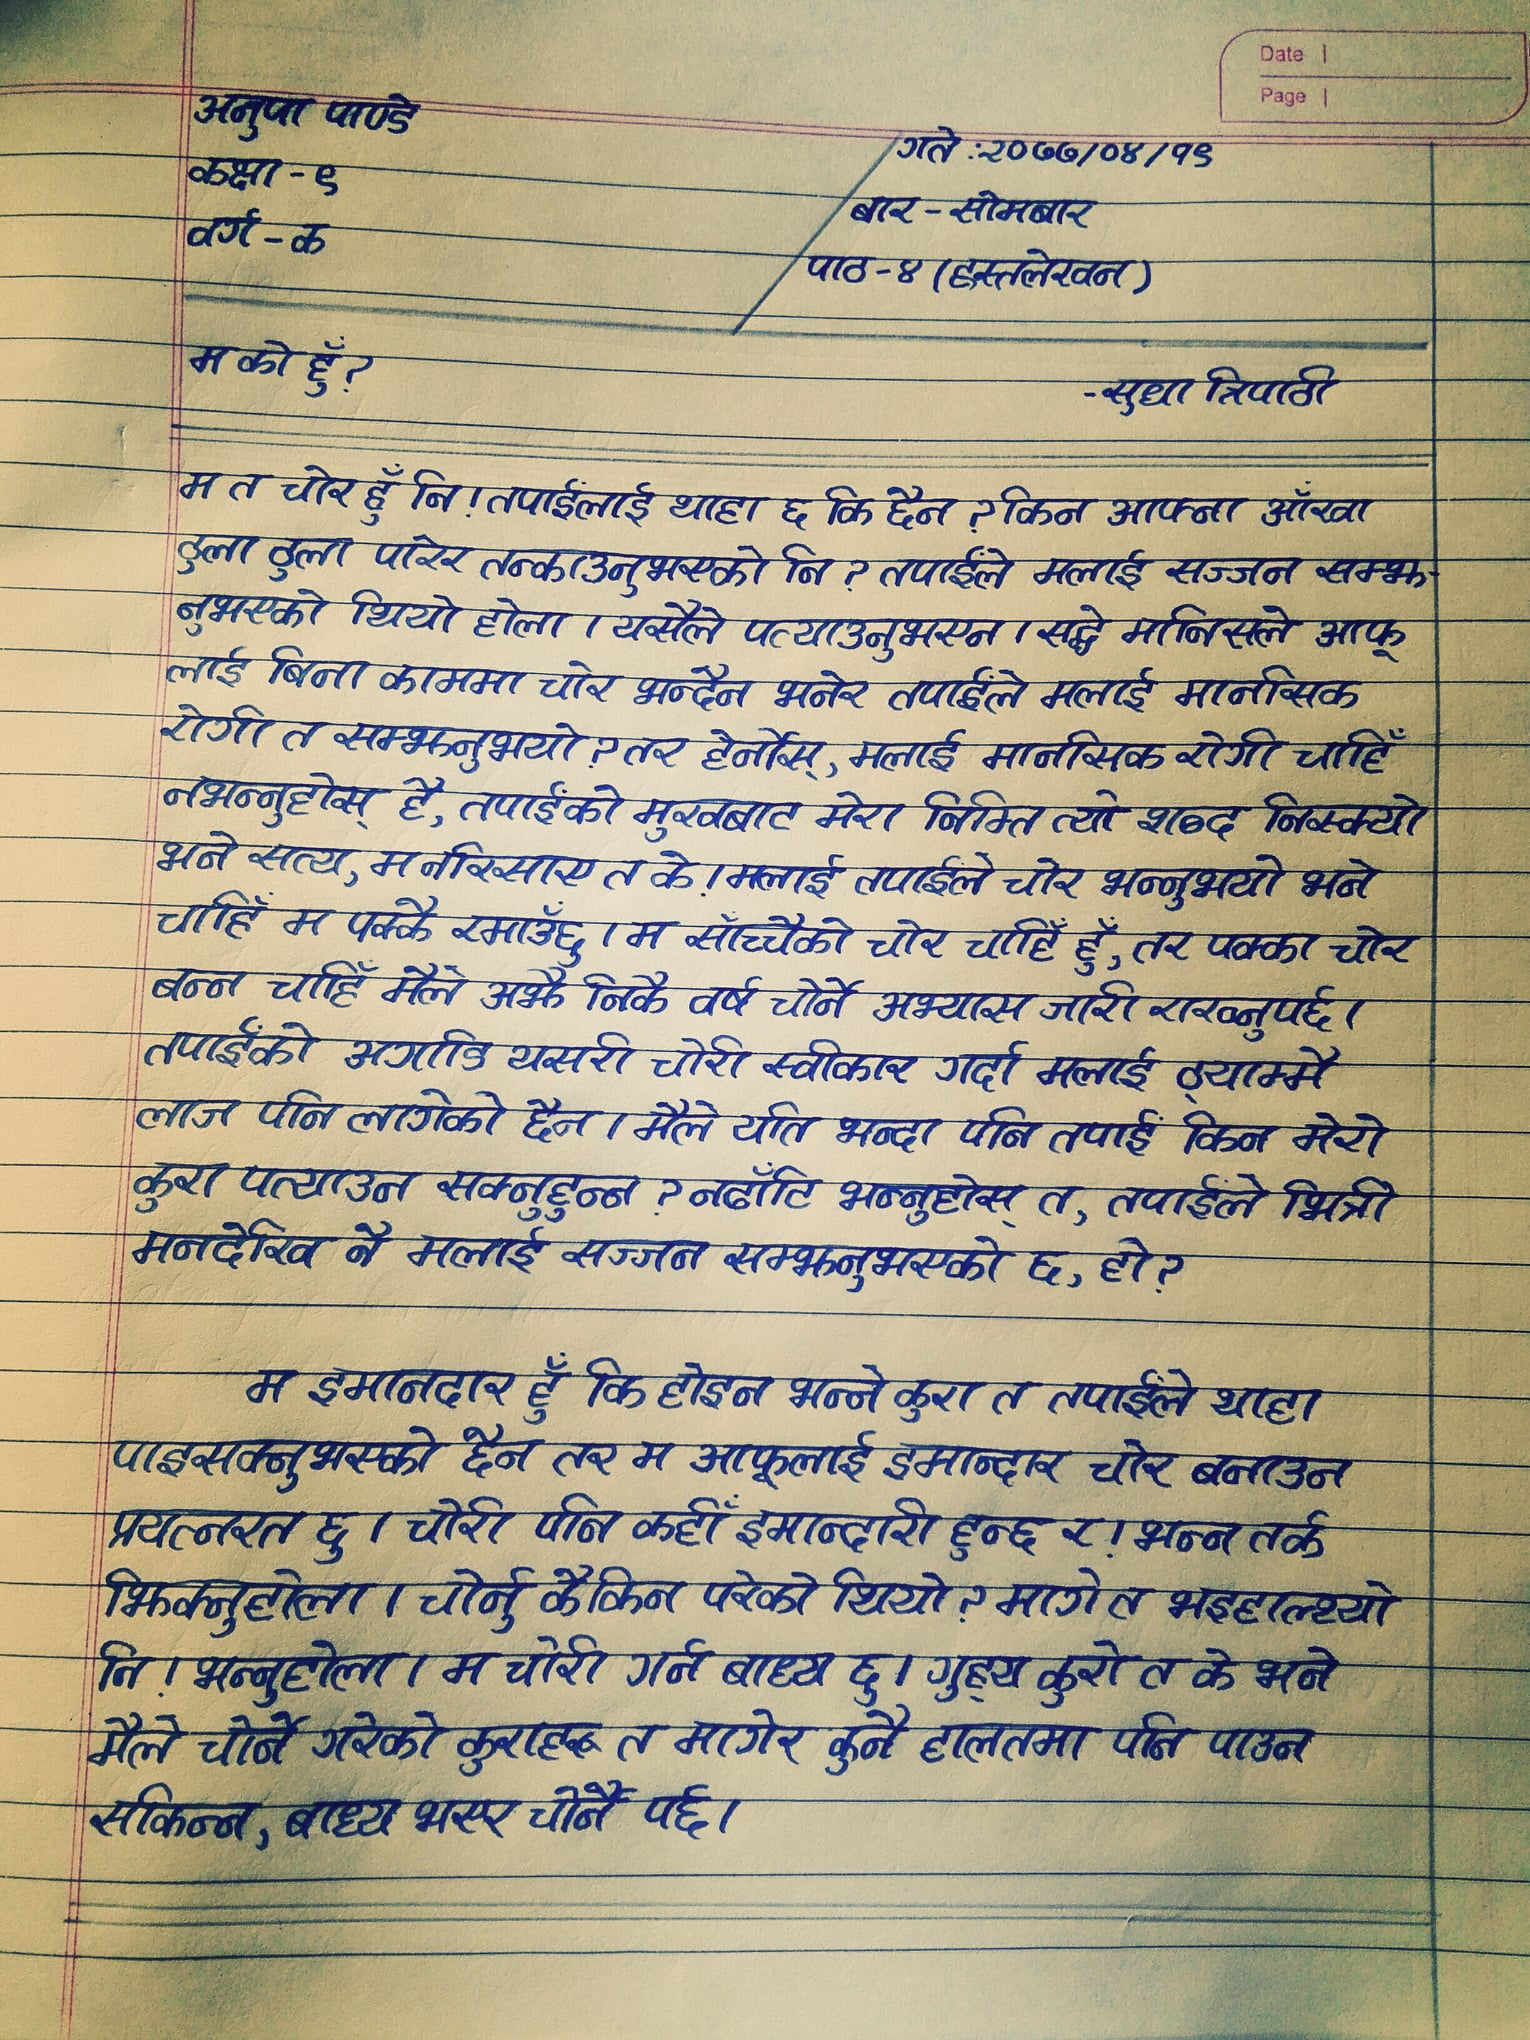text: (100, 1420, 456, 1492), (87, 1555, 382, 1630), (1164, 1561, 1409, 1643), (715, 1230, 1024, 1295), (736, 599, 1014, 670), (476, 540, 776, 596), (426, 1152, 648, 1226), (153, 765, 391, 830), (972, 120, 1228, 180), (188, 1635, 397, 1707), (122, 1206, 337, 1275), (80, 1775, 265, 1855), (328, 712, 583, 769), (823, 1165, 1033, 1234), (677, 1420, 882, 1491), (1143, 975, 1347, 1042), (304, 1353, 522, 1414), (233, 1145, 426, 1213), (730, 1491, 939, 1552), (919, 1703, 1099, 1772), (1098, 847, 1287, 911), (1184, 1433, 1364, 1500), (632, 781, 805, 850), (881, 1430, 1077, 1491), (1117, 596, 1307, 659), (100, 1500, 310, 1557), (137, 1014, 325, 1076), (1254, 782, 1434, 847), (1170, 660, 1369, 718), (757, 1028, 927, 1095), (1160, 1044, 1344, 1107), (1093, 1168, 1271, 1230), (1038, 1361, 1202, 1428), (670, 1703, 820, 1777), (166, 575, 341, 638), (183, 67, 320, 148), (341, 1083, 514, 1144), (984, 726, 1172, 782), (415, 838, 601, 895), (688, 900, 855, 962), (453, 1714, 609, 1778), (1197, 352, 1348, 418), (484, 471, 665, 525), (312, 1701, 455, 1770), (947, 247, 1138, 299), (410, 1561, 538, 1635), (318, 72, 439, 151), (447, 777, 624, 830), (331, 1022, 501, 1076), (675, 1160, 823, 1222), (873, 537, 1022, 598), (1202, 1709, 1327, 1781), (866, 977, 1037, 1030), (399, 1221, 554, 1279), (821, 1560, 951, 1629), (691, 716, 831, 781), (699, 1557, 823, 1629), (559, 1226, 714, 1283), (889, 663, 1038, 723), (1271, 1165, 1405, 1230), (373, 651, 534, 705), (447, 901, 588, 962), (493, 1626, 616, 1696), (905, 784, 1049, 843), (849, 847, 996, 904), (715, 1630, 839, 1699), (948, 182, 1109, 235), (1249, 475, 1384, 538), (497, 1022, 638, 1081), (183, 1707, 315, 1770), (1170, 715, 1294, 781), (943, 1492, 1051, 1568), (1237, 1494, 1340, 1573), (517, 1481, 632, 1552), (632, 1478, 736, 1555), (521, 1773, 640, 1841), (582, 1555, 688, 1630), (1196, 1373, 1334, 1431), (1037, 1634, 1138, 1712), (145, 887, 275, 948), (627, 657, 760, 716), (646, 1357, 779, 1417), (1167, 1100, 1289, 1165), (1070, 1434, 1189, 1500), (1307, 543, 1442, 601), (1029, 1041, 1164, 1099), (403, 1781, 522, 1846), (1162, 543, 1310, 594), (1281, 1104, 1398, 1168), (993, 1565, 1111, 1629), (1096, 483, 1250, 532), (723, 1086, 828, 1157), (88, 1707, 194, 1777), (1302, 609, 1417, 671), (1037, 660, 1162, 718), (1289, 724, 1417, 781), (447, 1415, 546, 1487), (844, 723, 976, 777), (402, 1492, 522, 1552), (959, 909, 1074, 972), (919, 1646, 1033, 1709), (366, 520, 477, 585), (460, 588, 575, 649), (607, 596, 730, 654), (1030, 548, 1165, 599), (1249, 1642, 1352, 1709), (337, 581, 468, 634), (1043, 1104, 1165, 1160), (824, 1699, 911, 1778), (1202, 919, 1331, 972), (260, 636, 374, 696), (280, 1793, 402, 1847), (130, 1086, 244, 1144), (262, 953, 379, 1009), (567, 967, 685, 1023), (1128, 1505, 1246, 1561), (778, 1362, 889, 1422), (770, 962, 865, 1031), (175, 141, 291, 198), (342, 888, 444, 953), (125, 1155, 235, 1214), (723, 850, 853, 900), (154, 699, 276, 752), (509, 1083, 601, 1152), (1106, 1709, 1197, 1778), (767, 662, 882, 716), (643, 1030, 759, 1084), (1138, 794, 1257, 847), (807, 781, 910, 842), (373, 956, 476, 1017), (632, 1778, 720, 1849), (993, 475, 1093, 538), (931, 1034, 1030, 1097), (943, 1097, 1043, 1160), (246, 830, 352, 888), (149, 822, 244, 887), (1326, 917, 1426, 978), (889, 1365, 988, 1426), (1033, 978, 1147, 1031), (624, 1634, 720, 1696), (530, 649, 625, 712), (633, 1091, 726, 1153), (80, 1630, 159, 1704), (1045, 782, 1135, 847), (677, 967, 767, 1031), (575, 1348, 652, 1422), (1104, 365, 1202, 422), (162, 525, 265, 580), (260, 525, 357, 583), (876, 480, 964, 543), (477, 964, 580, 1017), (662, 483, 770, 533), (894, 104, 964, 180), (273, 455, 358, 517), (164, 638, 256, 696), (823, 1112, 947, 1153), (860, 914, 959, 964), (146, 959, 249, 1007), (993, 851, 1091, 901), (249, 1086, 344, 1137), (1033, 604, 1115, 663), (517, 1348, 575, 1431), (543, 1430, 627, 1487), (834, 1634, 894, 1714), (395, 455, 461, 525), (231, 321, 294, 394), (768, 537, 839, 599), (1093, 1227, 1157, 1293), (186, 201, 265, 254), (307, 1497, 360, 1576), (297, 320, 346, 405), (1122, 922, 1199, 975), (336, 1218, 402, 1279), (534, 1560, 596, 1622), (1012, 1234, 1074, 1296), (1191, 1634, 1247, 1701), (800, 243, 874, 292), (1066, 911, 1119, 978), (820, 480, 881, 538), (646, 842, 702, 904), (1135, 1630, 1188, 1696), (235, 1359, 307, 1407), (852, 183, 926, 230), (619, 731, 693, 777), (358, 455, 403, 530), (604, 1711, 672, 1761), (984, 1364, 1038, 1425), (436, 1642, 501, 1691), (273, 707, 329, 765), (281, 214, 347, 262), (178, 331, 239, 381), (389, 768, 440, 826), (620, 1428, 681, 1476), (307, 149, 360, 204), (1104, 1577, 1159, 1630), (217, 463, 276, 511), (1054, 1500, 1106, 1555), (619, 916, 683, 959), (275, 900, 337, 943), (1152, 1238, 1196, 1299), (773, 483, 820, 537), (172, 463, 222, 511), (596, 855, 652, 896), (641, 1169, 688, 1218), (1032, 1181, 1080, 1226), (366, 838, 415, 880), (337, 349, 381, 394), (889, 246, 931, 289)
